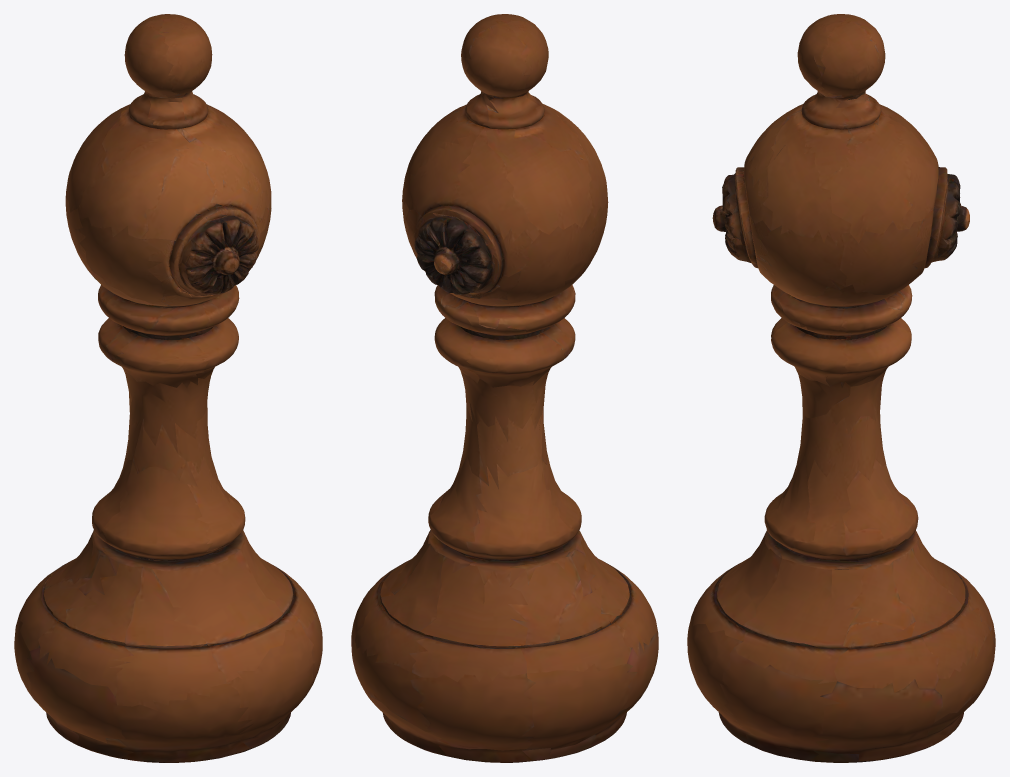
The model's file is pion-clair.glb.
3 renders of one model, left to right at view 1: azimuth 30°, elevation 25°; view 2: azimuth 150°, elevation 25°; view 3: azimuth 270°, elevation 25°, orthographic.
Visible parts, largest first — view 1: mesh_node; view 2: mesh_node; view 3: mesh_node.
Part boxes in pixels (x1,y1,x2,y2): mesh_node: [14, 14, 322, 762]; mesh_node: [351, 14, 658, 762]; mesh_node: [687, 14, 995, 762].
Bounding box in the file's own units: 0.7669 × 1.9 × 0.7682.
1 material, 1 textured.
